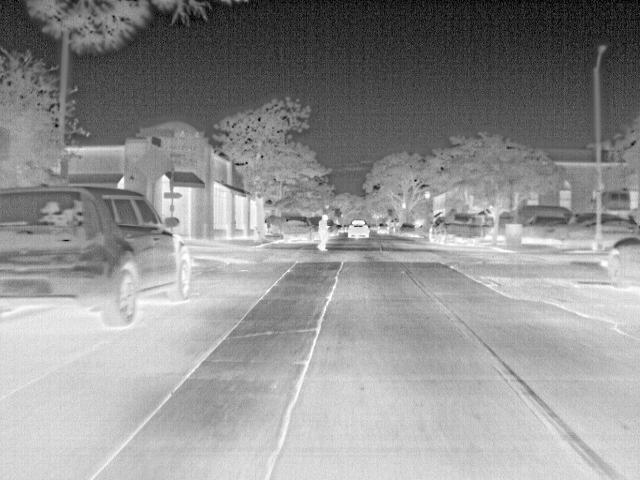car: (1, 183, 192, 325), (605, 237, 639, 287), (431, 212, 483, 244), (602, 218, 638, 246), (564, 222, 597, 250), (521, 204, 575, 220), (284, 214, 312, 240), (347, 219, 371, 240), (497, 212, 512, 236), (401, 222, 419, 239)
person: (316, 213, 334, 250)
